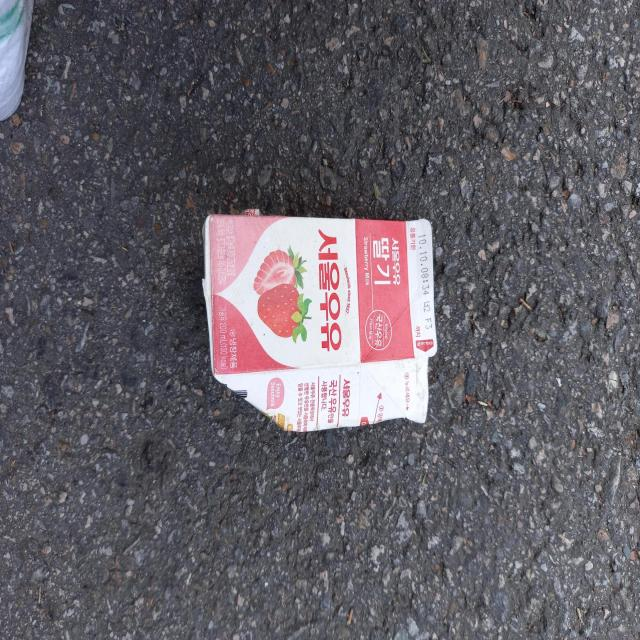paperpack: (203, 214, 438, 432)
